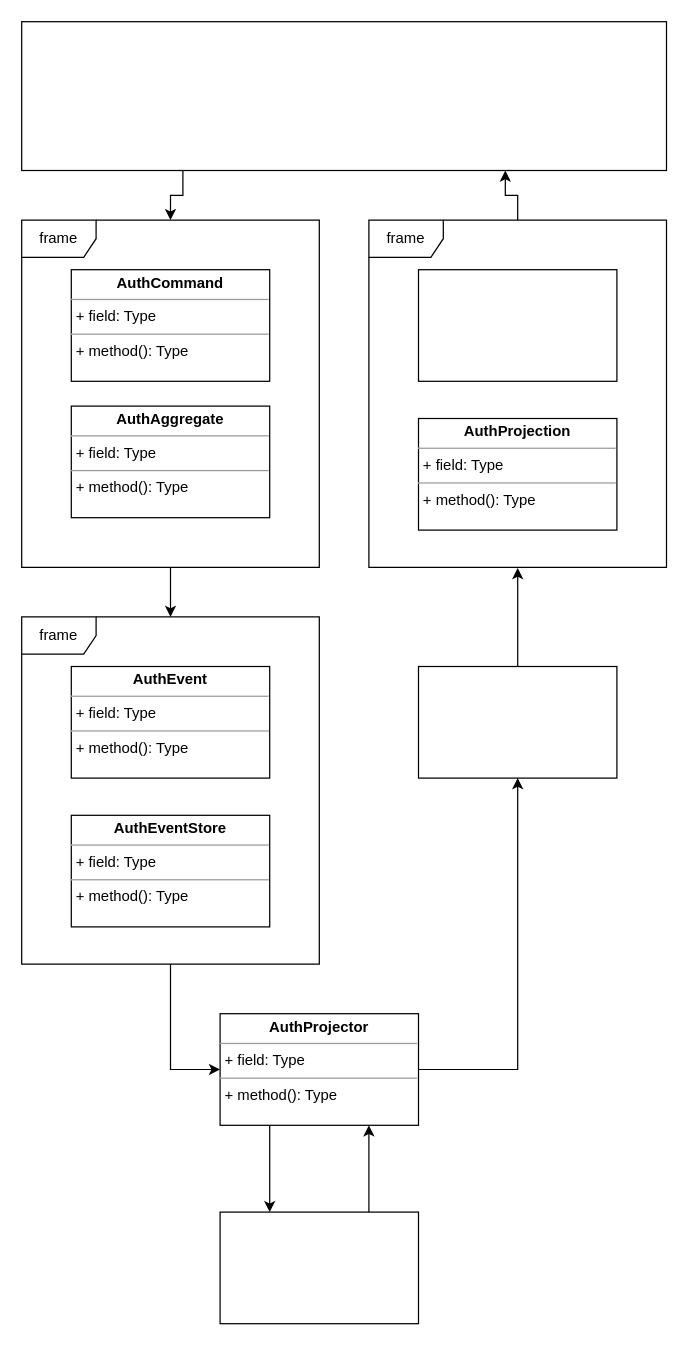
The diagram is 688 pixels wide and 1345 high, and some of its shapes have lost their labels. The centre of each missing label's shape, as x and y in pixels:
"AuthApi + field: Type + method(): Type" belongs at (x=318, y=1267).
"AuthQuery + field: Type + method(): Type" belongs at (x=517, y=324).
"AuthRespotiroty + field: Type + method(): Type" belongs at (x=517, y=721).
"UI + authAggregate + authProjection + method(): Type" belongs at (x=343, y=95).
